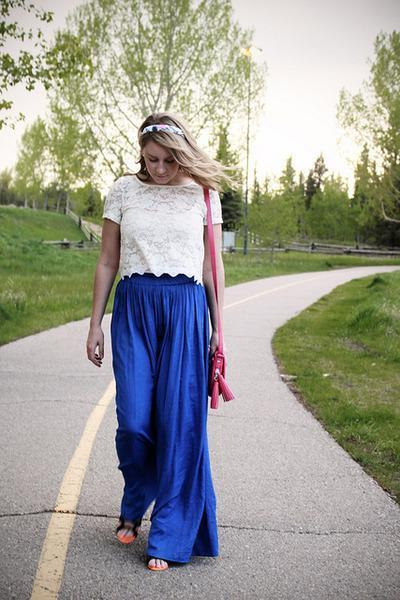short sleeve shirt: (93, 178, 228, 281)
trousers: (103, 274, 218, 566)
